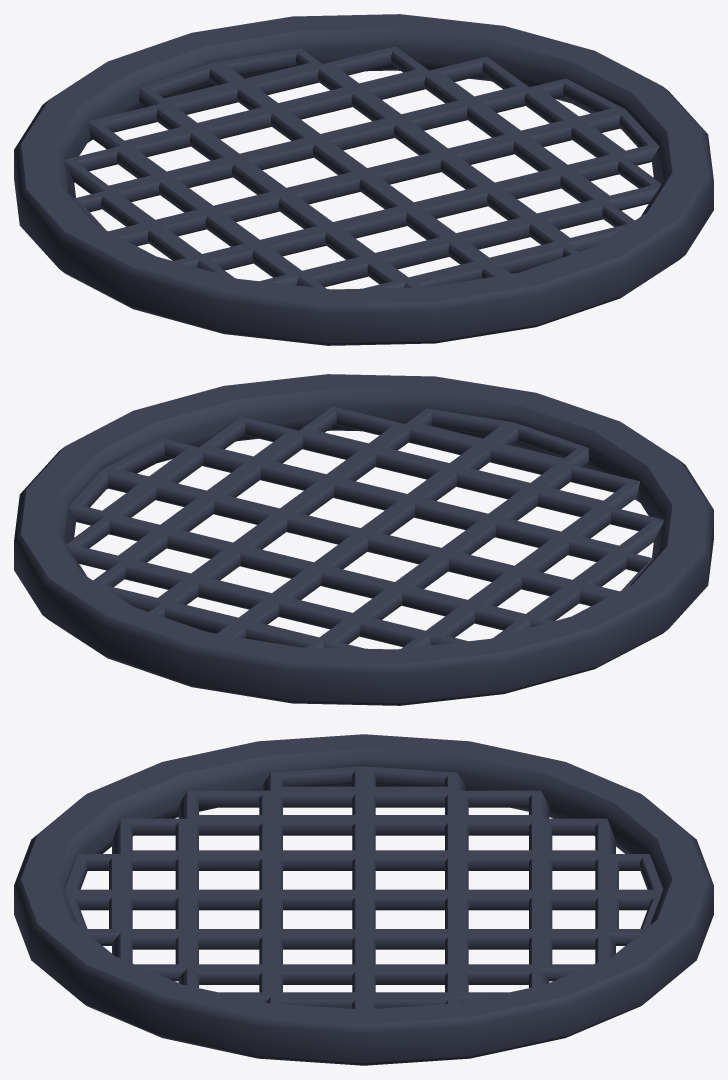
File: sewerGrate_model.fbx
3 renders of one model, top to bottom at view 1: azimuth 30°, elevation 25°; view 2: azimuth 150°, elevation 25°; view 3: azimuth 270°, elevation 25°, orthographic.
Parts seen in each view (by area): view 1: sewerGrate_geo; view 2: sewerGrate_geo; view 3: sewerGrate_geo.
Boxes of the visible parts, x1,y1,x2,y2 form: sewerGrate_geo: (14,14,713,345); sewerGrate_geo: (14,374,713,705); sewerGrate_geo: (14,734,713,1065).
Bounding box in the file's own units: 47.73 × 47.73 × 3.13.
